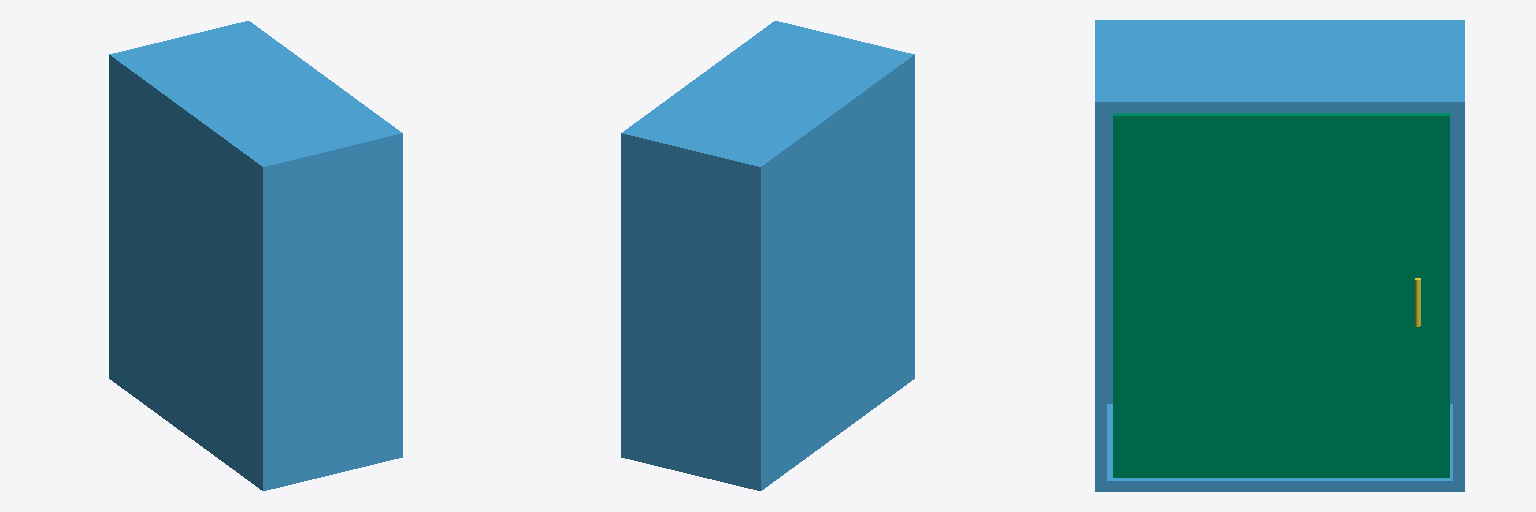
robot.urdf — my_cabinet:
<?xml version="1.0" ?>
<robot name="my_cabinet">
	<link name="world"/>
	<joint name="virtual_joint" type="fixed">
		<parent link="world"/>
		<child link="base_cabinet_link"/>
		<origin xyz="0.0 0.0 0.0" rpy="0.0 0.0 0.0"/>
	</joint>
	<link name="base_cabinet_link">
		<visual>
			<origin xyz="0.0 -0.0025 -0.3240386598627698" rpy="0.0 0.0 0.0"/>
			<geometry>
				<box size="0.3 0.5733804856388585 0.018"/>
			</geometry>
		</visual>
		<collision name="base_cabinet_link_collision_0">
			<origin xyz="0.0 -0.0025 -0.3240386598627698" rpy="0.0 0.0 0.0"/>
			<geometry>
				<box size="0.3 0.5733804856388585 0.018"/>
			</geometry>
		</collision>
		<visual>
			<origin xyz="0.0 0.2751902428194292 0.0" rpy="0.0 0.0 0.0"/>
			<geometry>
				<box size="0.3 0.018 0.6660773197255396"/>
			</geometry>
		</visual>
		<collision name="base_cabinet_link_collision_1">
			<origin xyz="0.0 0.2751902428194292 0.0" rpy="0.0 0.0 0.0"/>
			<geometry>
				<box size="0.3 0.018 0.6660773197255396"/>
			</geometry>
		</collision>
		<visual>
			<origin xyz="0.0 -0.2801902428194292 0.0" rpy="0.0 0.0 0.0"/>
			<geometry>
				<box size="0.3 0.018 0.6660773197255396"/>
			</geometry>
		</visual>
		<collision name="base_cabinet_link_collision_2">
			<origin xyz="0.0 -0.2801902428194292 0.0" rpy="0.0 0.0 0.0"/>
			<geometry>
				<box size="0.3 0.018 0.6660773197255396"/>
			</geometry>
		</collision>
		<visual>
			<origin xyz="0.0 -0.0025 0.3240386598627698" rpy="0.0 0.0 0.0"/>
			<geometry>
				<box size="0.3 0.5733804856388585 0.018"/>
			</geometry>
		</visual>
		<collision name="base_cabinet_link_collision_3">
			<origin xyz="0.0 -0.0025 0.3240386598627698" rpy="0.0 0.0 0.0"/>
			<geometry>
				<box size="0.3 0.5733804856388585 0.018"/>
			</geometry>
		</collision>
		<visual>
			<origin xyz="-0.141 -0.0025 0.0" rpy="0.0 0.0 0.0"/>
			<geometry>
				<box size="0.018 0.5733804856388585 0.6660773197255396"/>
			</geometry>
		</visual>
		<collision name="base_cabinet_link_collision_4">
			<origin xyz="-0.141 -0.0025 0.0" rpy="0.0 0.0 0.0"/>
			<geometry>
				<box size="0.018 0.5733804856388585 0.6660773197255396"/>
			</geometry>
		</collision>
		<inertial>
			<mass value="0.200000"/>
			<inertia ixx="0.012874" ixy="0.0" ixz="0.0" iyy="0.008894" iyz="0.0" izz="0.006979"/>
		</inertial>
	</link>
	<link name="door_link">
		<visual>
			<origin xyz="0.0 -0.2611902428194292 0.0"/>
			<geometry>
				<box size="0.018 0.5223804856388584 0.6200773197255396"/>
			</geometry>
		</visual>
		<collision name="door_link_collision">
			<origin xyz="0.0 -0.2611902428194292 0.0"/>
			<geometry>
				<box size="0.018 0.5223804856388584 0.6200773197255396"/>
			</geometry>
		</collision>
		<inertial>
			<mass value="0.200000"/>
			<inertia ixx="0.010956" ixy="0.0" ixz="0.0" iyy="0.006414" iyz="0.0" izz="0.004553"/>
		</inertial>
	</link>
	<joint name="door_joint" type="revolute">
		<origin xyz="0.141 -0.2611902428194292 0.0" rpy="0.000000 -0.000000 3.141593"/>
		<axis xyz="0 0 1"/>
		<parent link="base_cabinet_link"/>
		<child link="door_link"/>
		<limit effort="50" lower="-1.658062789394613" upper="0" velocity="10"/>
		<dynamics friction="3.5" damping="3.5"/>
	</joint>
	<link name="handle_link">
		<visual>
			<origin xyz="0.0 0.0 0.0" rpy="0.0 0.0 0.0"/>
			<geometry>
				<cylinder length="0.08" radius="0.005"/>
			</geometry>
		</visual>
		<collision name="handle_link_collision_0">
			<origin xyz="0.0 0.0 0.0" rpy="0.0 0.0 0.0"/>
			<geometry>
				<cylinder length="0.08" radius="0.005"/>
			</geometry>
		</collision>
		<visual>
			<origin xyz="-0.01 0.0 0.02" rpy="0.0 1.5707963267948966 0.0"/>
			<geometry>
				<cylinder length="0.02" radius="0.003"/>
			</geometry>
		</visual>
		<collision name="handle_link_collision_1">
			<origin xyz="-0.01 0.0 0.02" rpy="0.0 1.5707963267948966 0.0"/>
			<geometry>
				<cylinder length="0.01" radius="0.003"/>
			</geometry>
		</collision>
		<visual>
			<origin xyz="-0.01 0.0 -0.02" rpy="0.0 1.5707963267948966 0.0"/>
			<geometry>
				<cylinder length="0.02" radius="0.003"/>
			</geometry>
		</visual>
		<collision name="handle_link_collision_2">
			<origin xyz="-0.01 0.0 -0.02" rpy="0.0 1.5707963267948966 0.0"/>
			<geometry>
				<cylinder length="0.02" radius="0.003"/>
			</geometry>
		</collision>
		<inertial>
			<mass value="0.050000"/>
			<inertia ixx="0.000027" ixy="0.0" ixz="0.0" iyy="0.000029" iyz="0.0" izz="0.000003"/>
		</inertial>
	</link>
	<joint name="handle_joint" type="fixed">
		<origin xyz="-0.028999999999999998 -0.4723804856388584 0.0" rpy="0.000000 -0.000000 3.141593"/>
		<parent link="door_link"/>
		<child link="handle_link"/>
	</joint>
	<gazebo reference="base_cabinet_link">
		<sensor name="main_sensor" type="contact">
			<selfCollide>true</selfCollide>
			<alwaysOn>true</alwaysOn>
			<updateRate>5.0</updateRate>
			<material>Gazebo/Red</material>
			<contact>
				<collision>base_cabinet_link_collision_0_collision</collision>
				<collision>base_cabinet_link_collision_1_collision</collision>
				<collision>base_cabinet_link_collision_2_collision</collision>
				<collision>base_cabinet_link_collision_3_collision</collision>
				<collision>base_cabinet_link_collision_4_collision</collision>
			</contact>
			<plugin name="gazebo_ros_bumper_controller" filename="libgazebo_ros_bumper.so">
				<bumperTopicName>/contact</bumperTopicName>
				<frameName>world</frameName>
			</plugin>
		</sensor>
	</gazebo>
	<gazebo reference="door_link">
		<sensor name="main_sensor" type="contact">
			<selfCollide>true</selfCollide>
			<alwaysOn>true</alwaysOn>
			<updateRate>5.0</updateRate>
			<material>Gazebo/Red</material>
			<contact>
				<collision>door_link_collision_collision</collision>
			</contact>
			<plugin name="gazebo_ros_bumper_controller" filename="libgazebo_ros_bumper.so">
				<bumperTopicName>/contact_door</bumperTopicName>
				<frameName>contact_door</frameName>
			</plugin>
		</sensor>
	</gazebo>
	<gazebo reference="door_link">
		<mu>3.0</mu>
		<mu2>3.0</mu2>
		<kp>10000000</kp>
		<kd>100</kd>
	</gazebo>
</robot>

--- Facts derived from the render (not from the file) ---
3 views of the same robot in one strip: view 1: azimuth 30°, elevation 25°; view 2: azimuth 150°, elevation 25°; view 3: azimuth 270°, elevation 25° (orthographic).
Model my_cabinet with 4 links and 3 joints (1 revolute, 2 fixed), rooted at world, posed every joint at zero.
Visible links, largest first — view 1: base_cabinet_link; view 2: base_cabinet_link; view 3: door_link, base_cabinet_link.
Link boxes in pixels (box(x1,y1,x2,y2)): base_cabinet_link: box(109, 21, 402, 490); base_cabinet_link: box(621, 21, 914, 490); door_link: box(1113, 113, 1449, 477); base_cabinet_link: box(1095, 20, 1464, 491).
Bounding box of the posed robot: 0.325 × 0.5734 × 0.6661 m (x, y, z).
Geometry: primitives only (box / cylinder / sphere), no mesh files.
